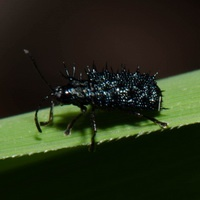insect: (50, 62, 167, 150)
